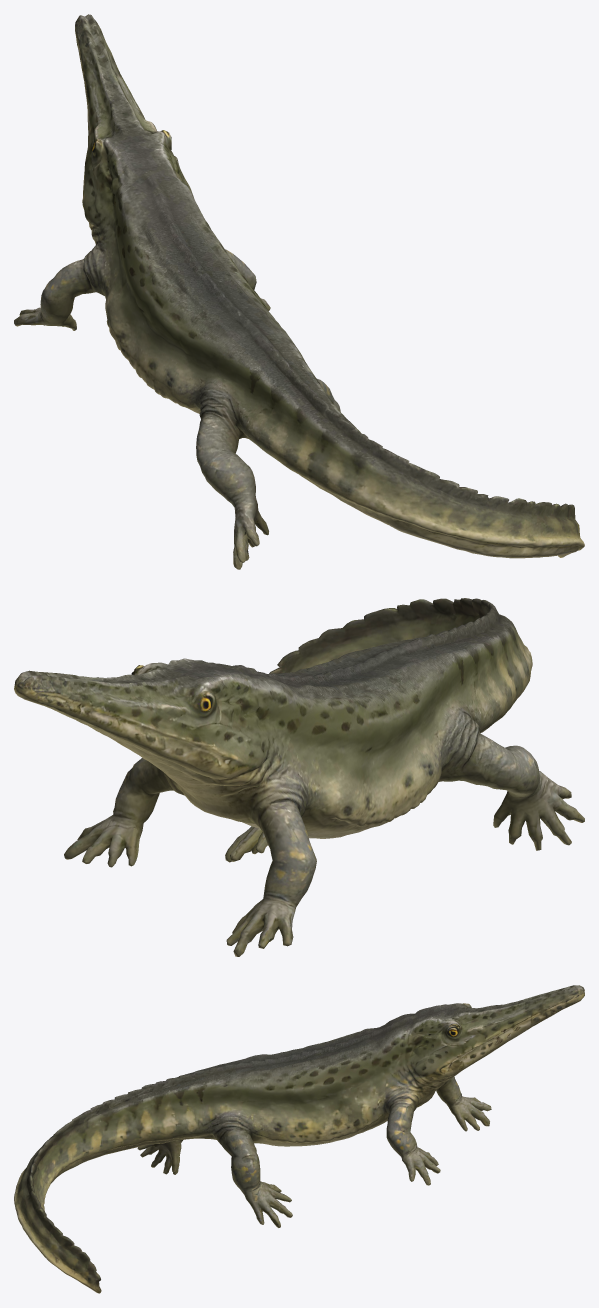
Rendered from aphaneramma.preview.glb.
3 renders of one model, top to bottom at view 1: azimuth 30°, elevation 25°; view 2: azimuth 150°, elevation 25°; view 3: azimuth 270°, elevation 25°, orthographic. The views are drawn at different scales.
Visible parts, largest first — view 1: tripo_node_b60ab116-c544-445a-ad69-a76374ce3b84; view 2: tripo_node_b60ab116-c544-445a-ad69-a76374ce3b84; view 3: tripo_node_b60ab116-c544-445a-ad69-a76374ce3b84.
Boxes of the visible parts, left/top/right/bottom form: tripo_node_b60ab116-c544-445a-ad69-a76374ce3b84: left=14, top=14, right=584, bottom=569; tripo_node_b60ab116-c544-445a-ad69-a76374ce3b84: left=14, top=598, right=584, bottom=956; tripo_node_b60ab116-c544-445a-ad69-a76374ce3b84: left=14, top=985, right=584, bottom=1293.
Bounding box in the file's own units: 0.4448 × 0.4881 × 1.
1 material, 1 textured.
